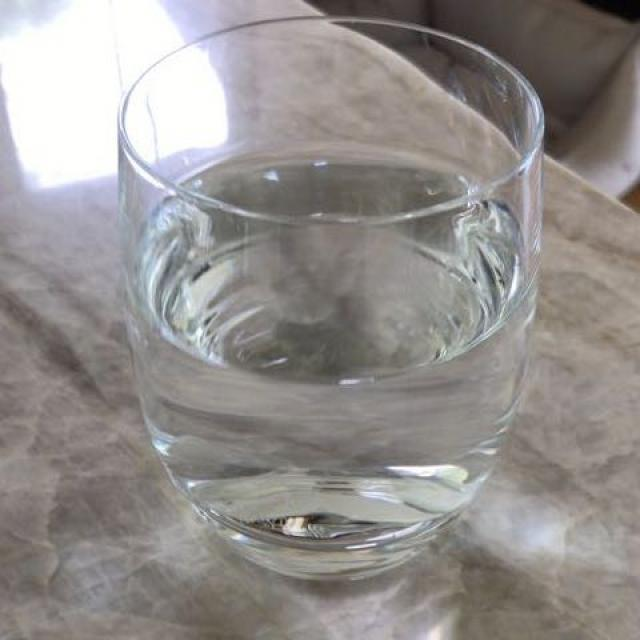water: (118, 147, 540, 565)
